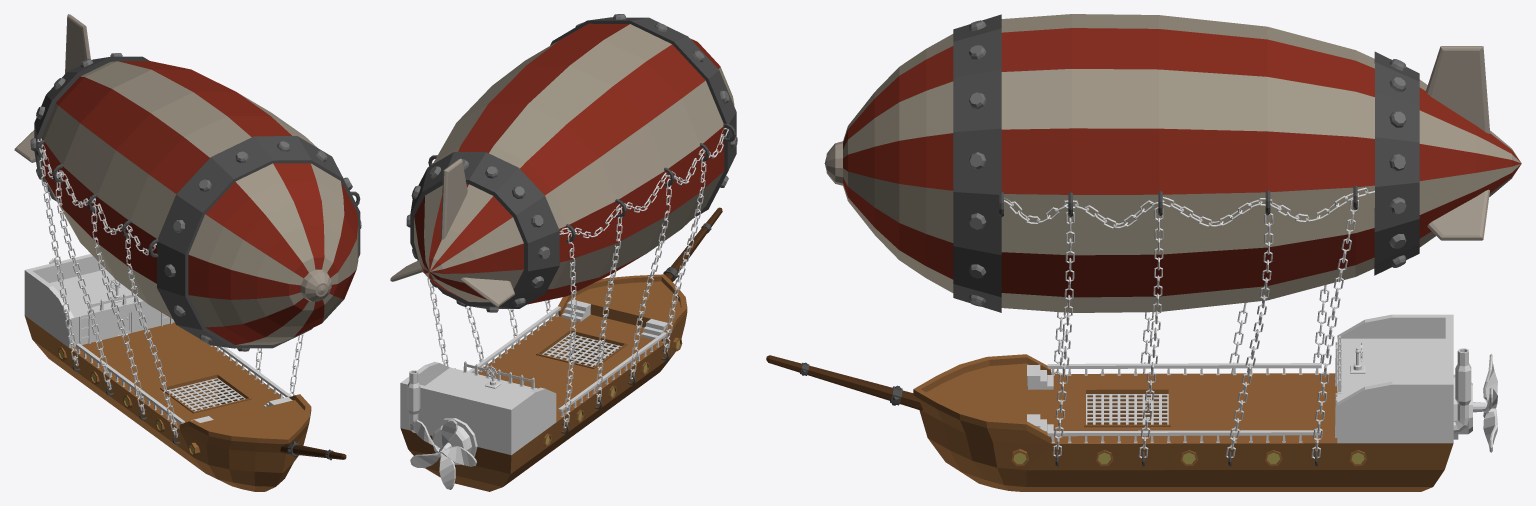
File: Airship.fbx
The picture shows the model from 3 angles, left to right: view 1: azimuth 30°, elevation 25°; view 2: azimuth 150°, elevation 25°; view 3: azimuth 270°, elevation 25°; orthographic projection. The views are drawn at different scales.
Visible parts, largest first — view 1: Balloon, Schip, Kajuit, Ruimgrid, Chain7, Chain6, Chain8, Chain9, Hekkieschip2, Chain10, Stonk, Hekkieschip1; view 2: Balloon, Schip, Kajuit, Propellers, Ruimgrid, Chain10, PropellerPart, Chain9, Chain8, Chain7, Chain6, Hekkieschip2 (+7 smaller); view 3: Balloon, Schip, Kajuit, Chain1, Ruimgrid, Stonk, Hekkieschip2, Hekkieschip1, Chain2, Chain3, Chain5, Chain4 (+2 smaller).
Part boxes in pixels (<box>): Balloon: <box>14,14,361,351</box>; Schip: <box>25,316,311,491</box>; Kajuit: <box>24,254,174,347</box>; Ruimgrid: <box>168,378,245,411</box>; Chain7: <box>55,172,111,390</box>; Chain6: <box>39,149,78,366</box>; Chain8: <box>91,205,145,414</box>; Chain9: <box>125,233,177,437</box>; Hekkieschip2: <box>76,343,184,428</box>; Chain10: <box>37,138,156,255</box>; Stonk: <box>280,441,346,460</box>; Hekkieschip1: <box>210,345,291,398</box>; Balloon: <box>390,14,737,312</box>; Schip: <box>400,274,687,491</box>; Kajuit: <box>400,361,556,455</box>; Propellers: <box>410,419,476,489</box>; Ruimgrid: <box>542,334,621,366</box>; Chain10: <box>559,128,728,238</box>; PropellerPart: <box>432,418,477,464</box>; Chain9: <box>663,156,706,353</box>; Chain8: <box>630,178,671,379</box>; Chain7: <box>596,207,622,403</box>; Chain6: <box>563,233,576,428</box>; Hekkieschip2: <box>558,332,666,416</box>; Balloon: <box>824,14,1521,312</box>; Schip: <box>913,354,1453,491</box>; Kajuit: <box>1337,314,1453,443</box>; Chain1: <box>1004,187,1374,228</box>; Ruimgrid: <box>1086,394,1168,424</box>; Stonk: <box>766,355,922,410</box>; Hekkieschip2: <box>1047,363,1321,375</box>; Hekkieschip1: <box>1047,430,1320,443</box>; Chain2: <box>1311,199,1358,458</box>; Chain3: <box>1225,213,1273,457</box>; Chain5: <box>1052,211,1074,456</box>; Chain4: <box>1138,207,1163,458</box>.
Bounding box in the file's own units: 1203 × 1910 × 2867.
